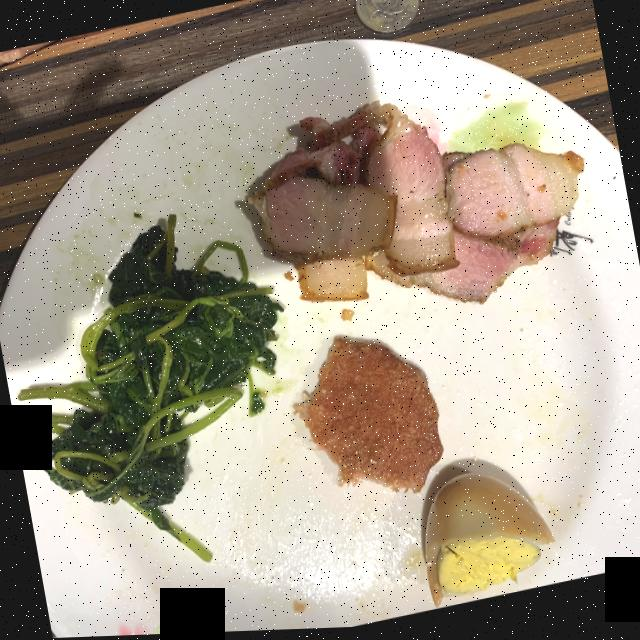Spam: (294, 339, 442, 496)
coin: (354, 0, 418, 35)
grilled pork: (248, 104, 583, 307)
soy egg: (424, 476, 553, 610)
sweet potato leaves: (11, 215, 281, 562)
